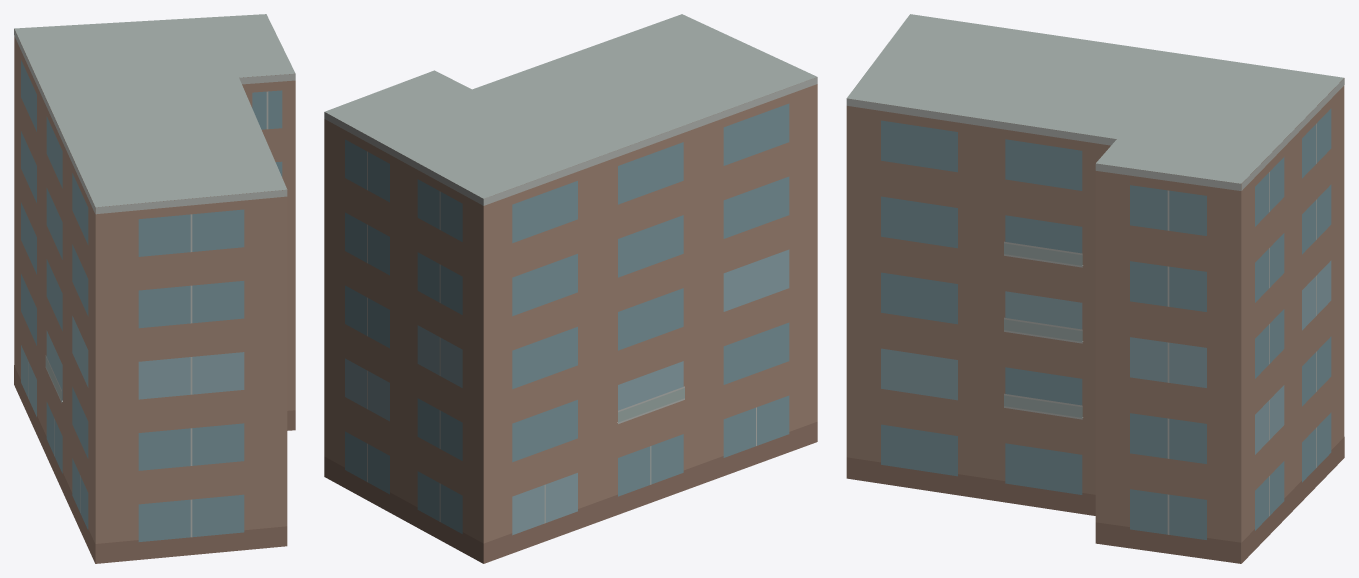
Rendered from survey-upis-32659223.glb.
The picture shows the model from 3 angles, left to right: view 1: azimuth 30°, elevation 25°; view 2: azimuth 150°, elevation 25°; view 3: azimuth 270°, elevation 25°; orthographic projection. The views are drawn at different scales.
Parts seen in each view (by area): view 1: survey-upis-32659223.tmp; view 2: survey-upis-32659223.tmp; view 3: survey-upis-32659223.tmp.
Boxes of the visible parts, box(x1,y1,x2,y2) form: survey-upis-32659223.tmp: box(14, 14, 295, 563); survey-upis-32659223.tmp: box(324, 14, 817, 563); survey-upis-32659223.tmp: box(846, 14, 1344, 563).
Size of the model in its own units: 12.08 by 12.6 by 14.97.
